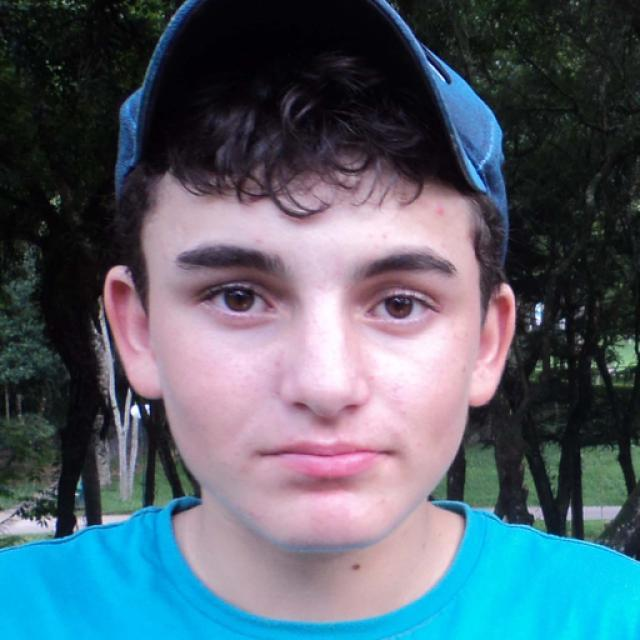neutral: (155, 134, 478, 545)
